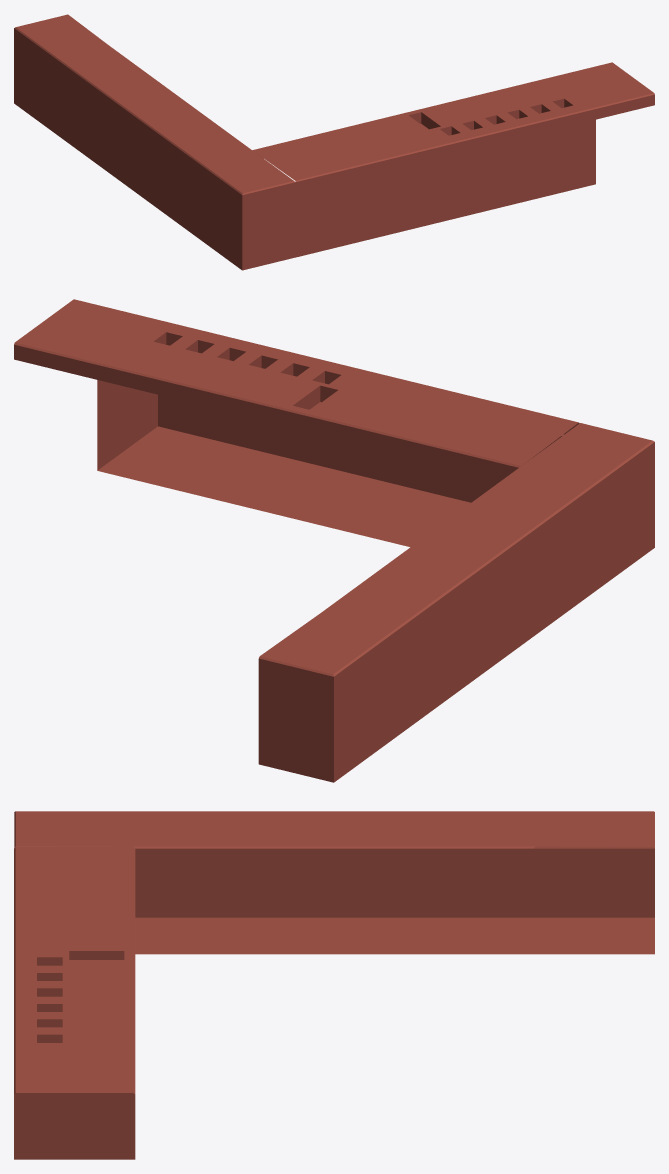
File: Ltahta.fbx
The picture shows the model from 3 angles, top to bottom: view 1: azimuth 30°, elevation 25°; view 2: azimuth 150°, elevation 25°; view 3: azimuth 270°, elevation 25°; orthographic projection. The views are drawn at different scales.
Parts seen in each view (by area): view 1: masaservis.001; view 2: masaservis.001; view 3: masaservis.001.
Part boxes in pixels (x1,y1,x2,y2): masaservis.001: (14, 14, 654, 270); masaservis.001: (14, 299, 654, 782); masaservis.001: (14, 811, 654, 1159).
Size of the model in its own units: 7715 by 1365 by 7396.
